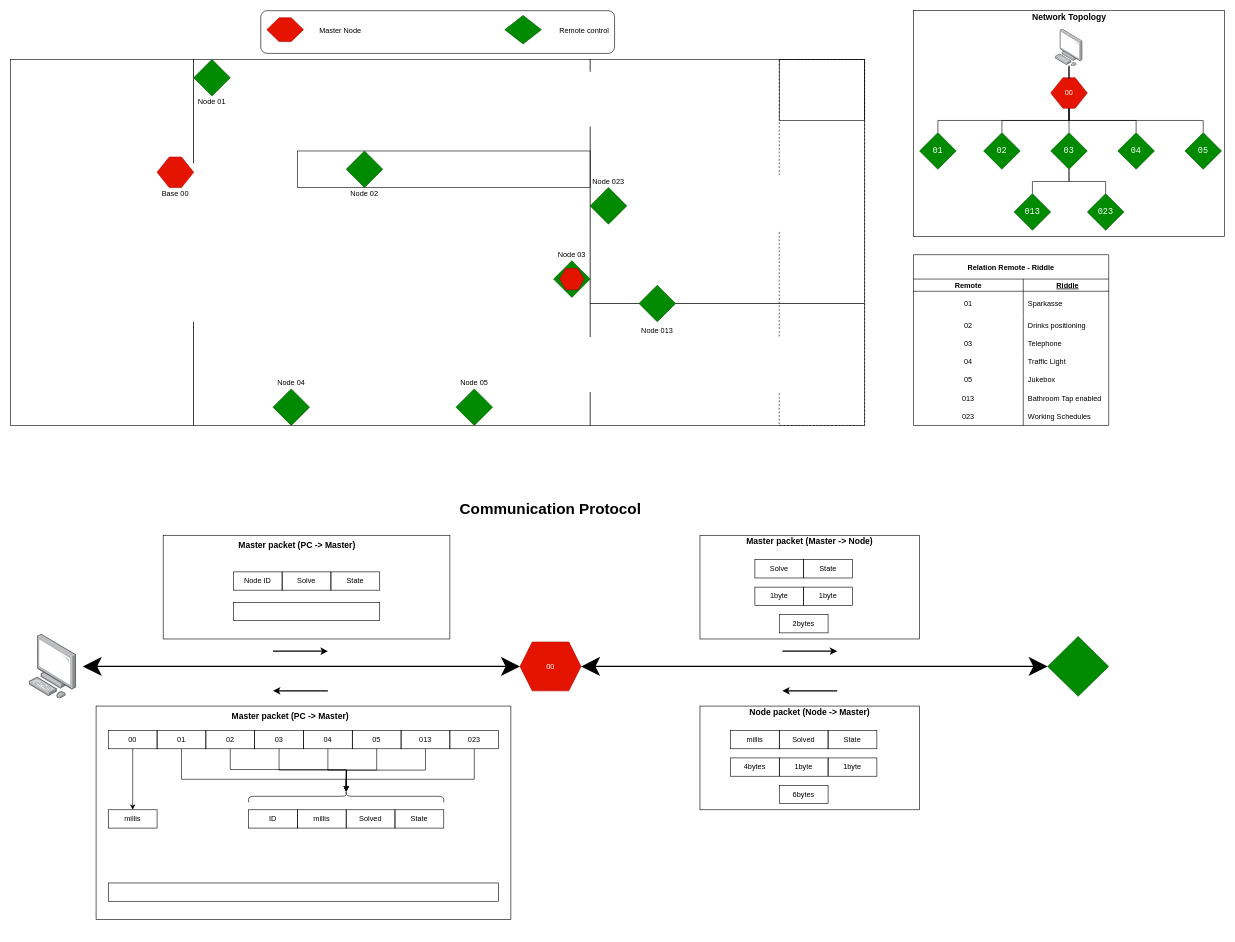
This 1235x942 diagram has some shape labels left out. The shapes that lost their labels are listed below. From the top down, each one's centre as x and y in pixels, then its label:
At (306,611): "3 values".
At (303,891): "29 values".
